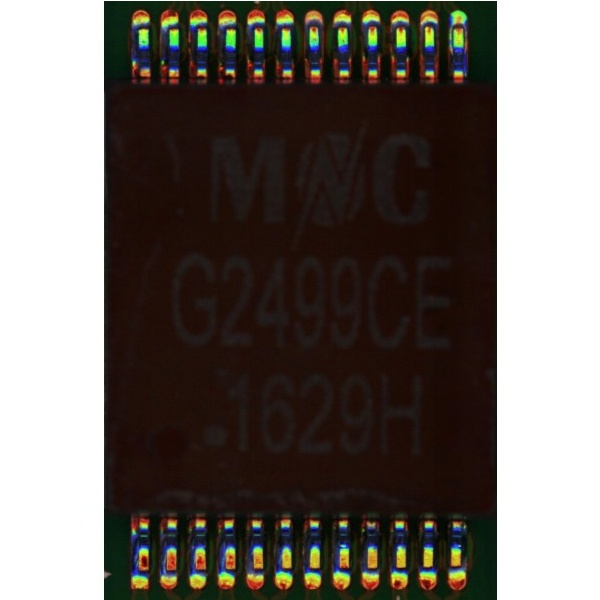Bad_podu: (454, 16, 462, 32)
Bad_qiaojiao: (447, 27, 452, 54), (462, 26, 467, 52)
